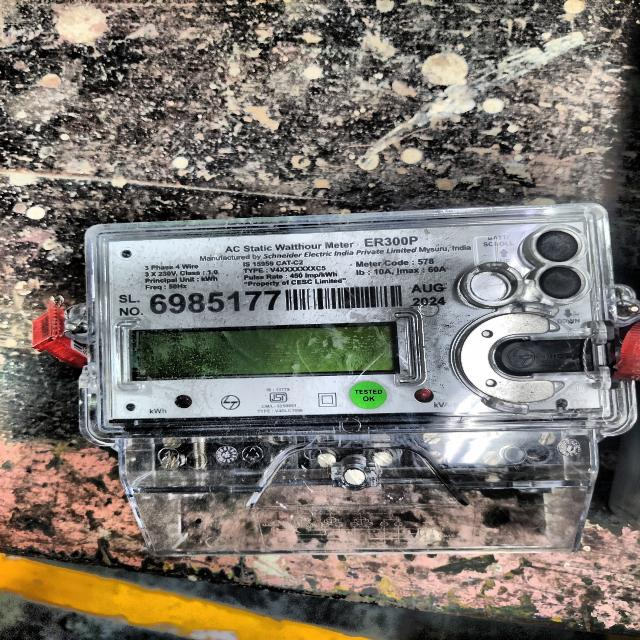Digital: (83, 223, 619, 554)
Reading: (131, 332, 390, 371)
Serial No.: (148, 290, 281, 314)
